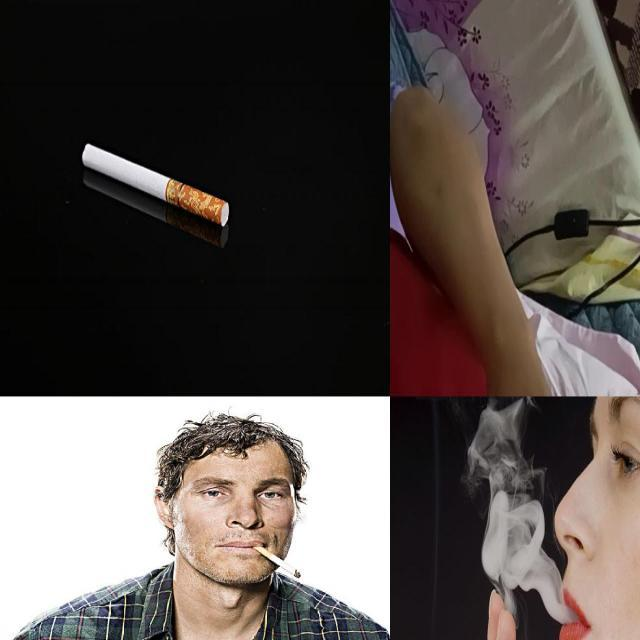smoking: (81, 142, 230, 228), (253, 544, 303, 580)
